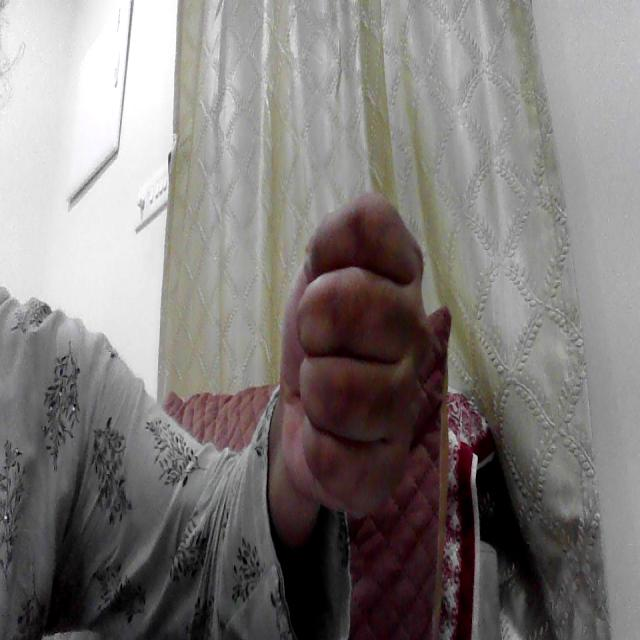Mushti: (274, 171, 448, 540)
